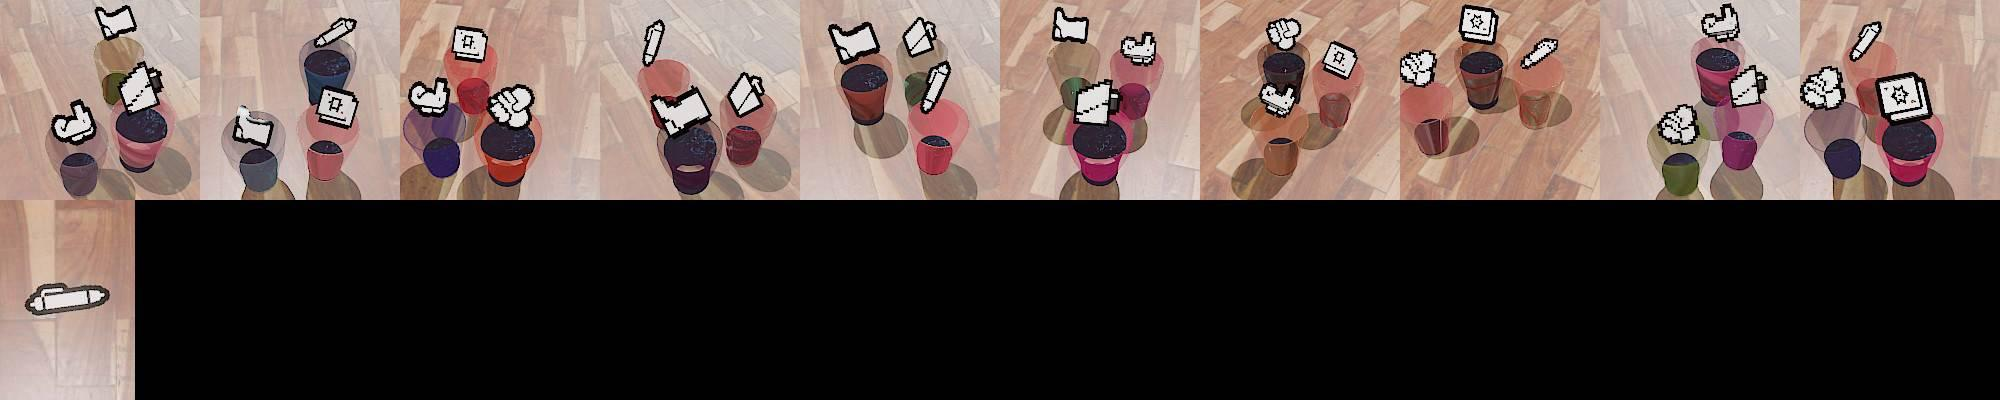icon: (648, 85, 713, 137), (22, 280, 111, 316), (1873, 72, 1931, 122), (117, 61, 165, 115), (50, 98, 98, 148), (828, 20, 881, 65), (1799, 63, 1847, 111), (486, 83, 536, 128), (1073, 78, 1120, 124), (315, 85, 359, 129), (408, 74, 451, 117), (233, 103, 274, 148), (1658, 102, 1701, 144), (728, 70, 766, 117), (1728, 64, 1768, 108), (919, 60, 951, 115), (1458, 3, 1499, 45), (93, 4, 137, 41), (901, 15, 938, 58), (1051, 5, 1090, 45), (1320, 39, 1358, 80), (1399, 47, 1437, 88), (1701, 3, 1740, 42), (450, 25, 489, 63), (1849, 20, 1883, 62), (1260, 81, 1299, 117), (313, 17, 356, 49), (1120, 30, 1157, 66), (1519, 36, 1558, 70), (1265, 17, 1301, 52), (642, 18, 666, 68)
